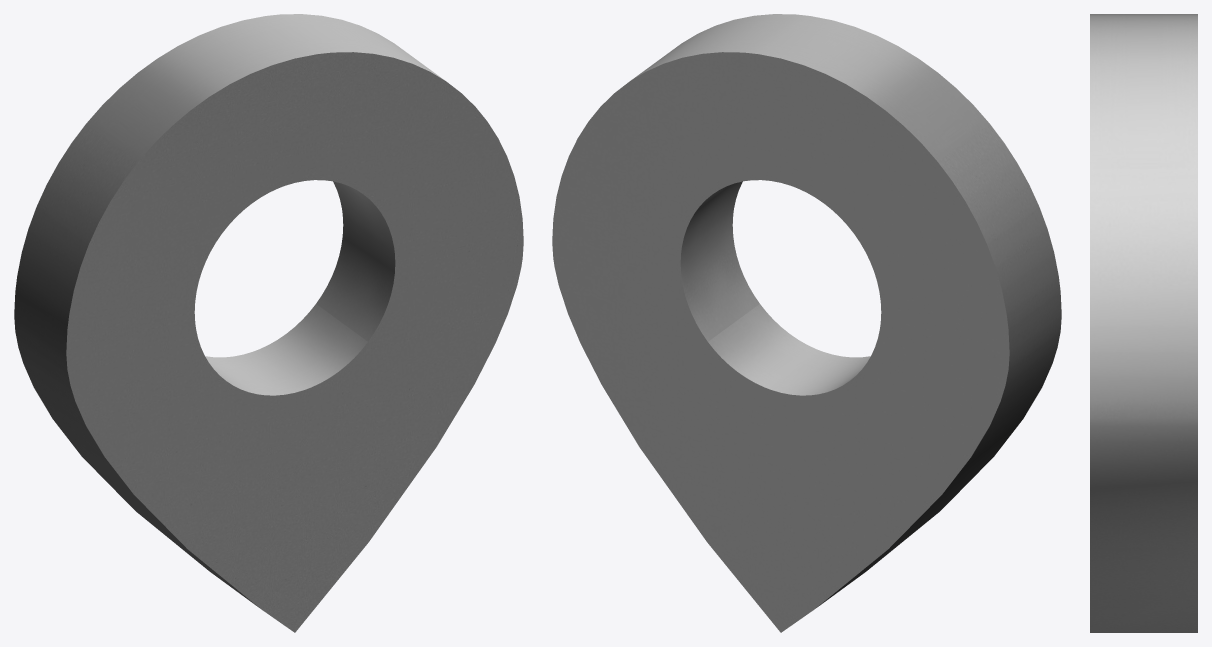
Rendered from pin4.glb.
3 views of the same model, side by side, from view 1: azimuth 30°, elevation 25°; view 2: azimuth 150°, elevation 25°; view 3: azimuth 270°, elevation 25° (orthographic). The views are drawn at different scales.
Visible parts, largest first — view 1: Extrude; view 2: Extrude; view 3: Extrude.
Part boxes in pixels (x1,y1,x2,y2): Extrude: [14, 14, 523, 632]; Extrude: [552, 14, 1061, 632]; Extrude: [1090, 14, 1197, 632].
Bounding box in the file's own units: 10.14 × 12.17 × 2.
1 material, 1 textured.
